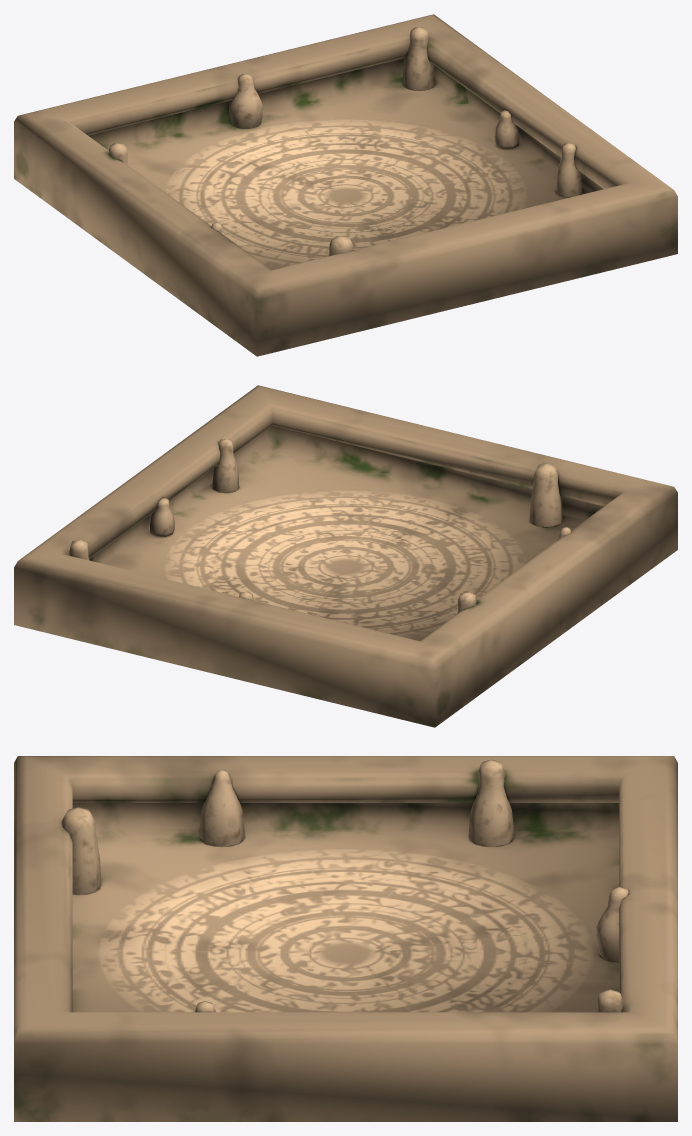
Rendered from PartePiso.fbx.
3 renders of one model, top to bottom at view 1: azimuth 30°, elevation 25°; view 2: azimuth 150°, elevation 25°; view 3: azimuth 270°, elevation 25°, orthographic. The views are drawn at different scales.
Parts seen in each view (by area): view 1: Cube.014; view 2: Cube.014; view 3: Cube.014.
Boxes of the visible parts, x1,y1,x2,y2 form: Cube.014: [14, 14, 677, 356]; Cube.014: [14, 385, 677, 727]; Cube.014: [14, 756, 677, 1121].
Size of the model in its own units: 1.02 by 0.1768 by 1.02.
Materials: 1 (1 with a texture image).
